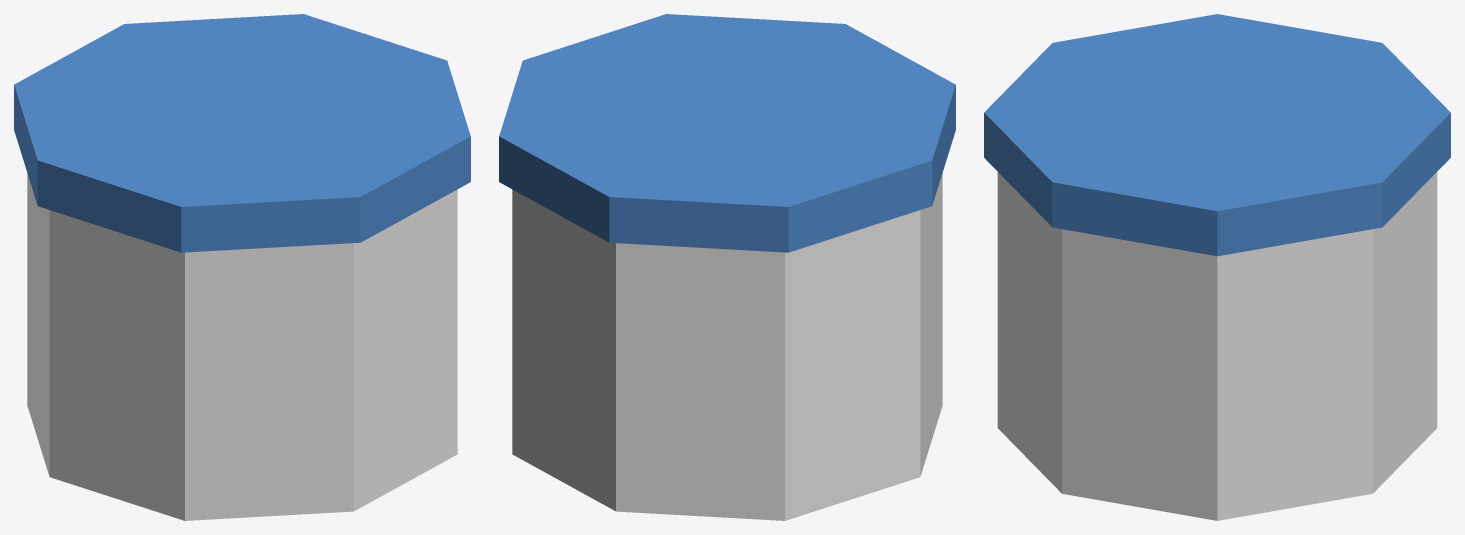
Rendered from Bottle_23.fbx.
The picture shows the model from 3 angles, left to right: view 1: azimuth 30°, elevation 25°; view 2: azimuth 150°, elevation 25°; view 3: azimuth 270°, elevation 25°; orthographic projection.
Visible parts, largest first — view 1: Bottle_23; view 2: Bottle_23; view 3: Bottle_23.
Part boxes in pixels (x1=…): Bottle_23: x1=14, y1=14, x2=470, y2=520; Bottle_23: x1=499, y1=14, x2=955, y2=520; Bottle_23: x1=984, y1=14, x2=1450, y2=520.
Bounding box in the file's own units: 17.59 × 17.59 × 13.12.
